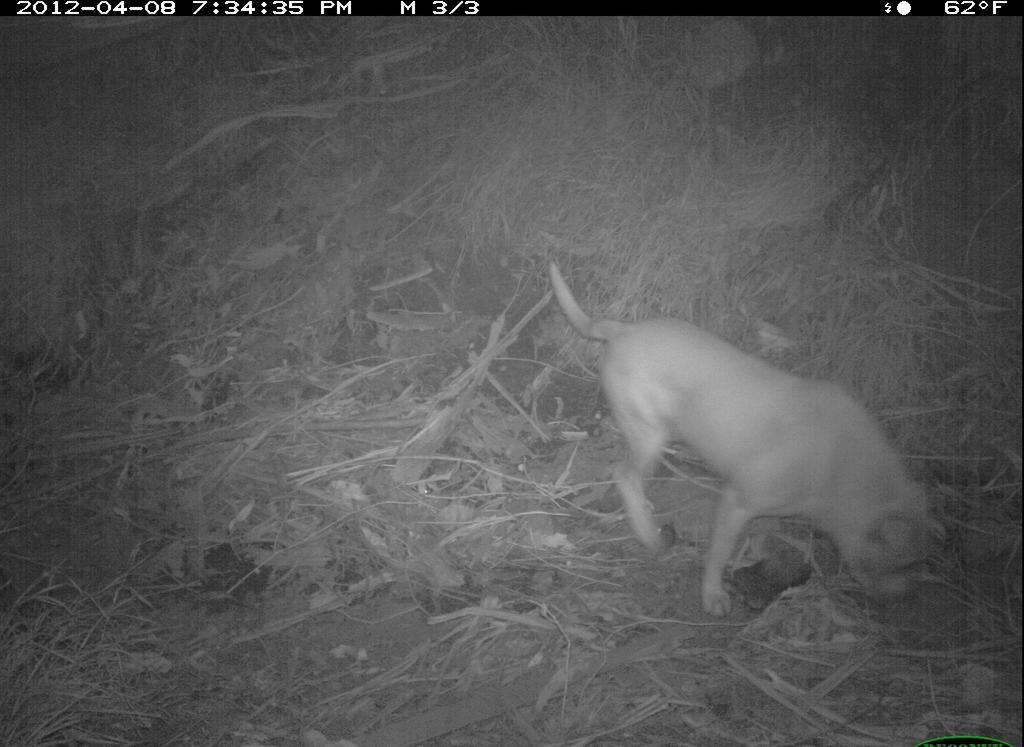dog: (545, 251, 940, 633)
